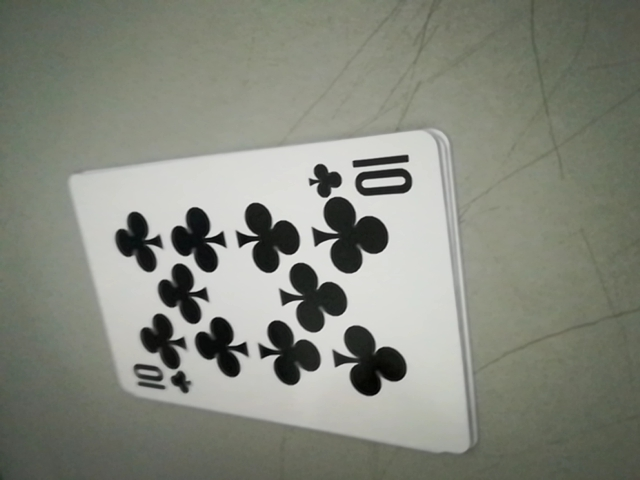mh 10: (307, 150, 423, 201), (125, 362, 194, 400)
